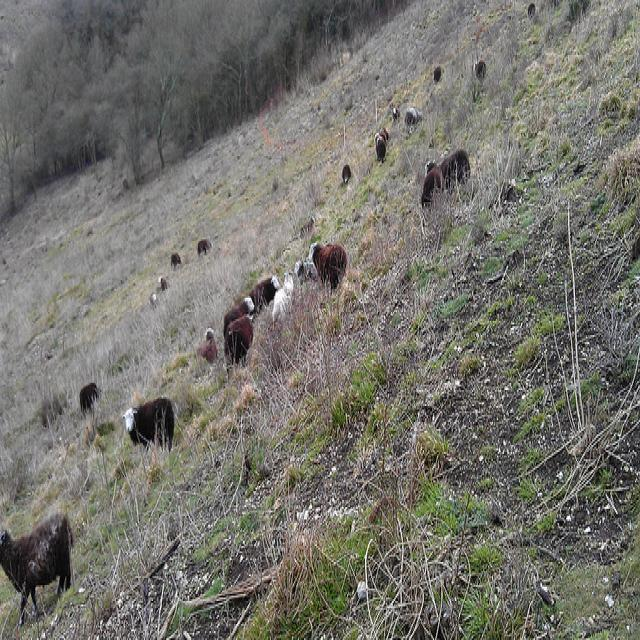cow: (120, 392, 175, 447), (247, 273, 279, 319), (222, 314, 252, 362), (77, 380, 101, 419)
